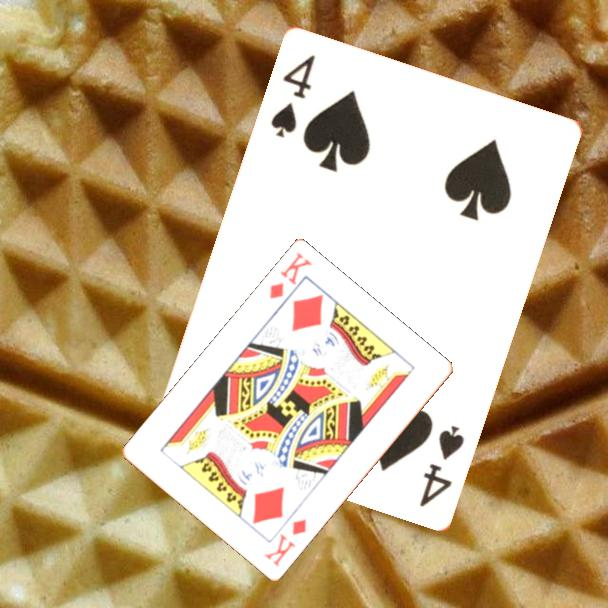d13: (260, 515, 310, 570), (266, 249, 315, 302)
s04: (267, 51, 319, 142), (416, 422, 468, 510)
